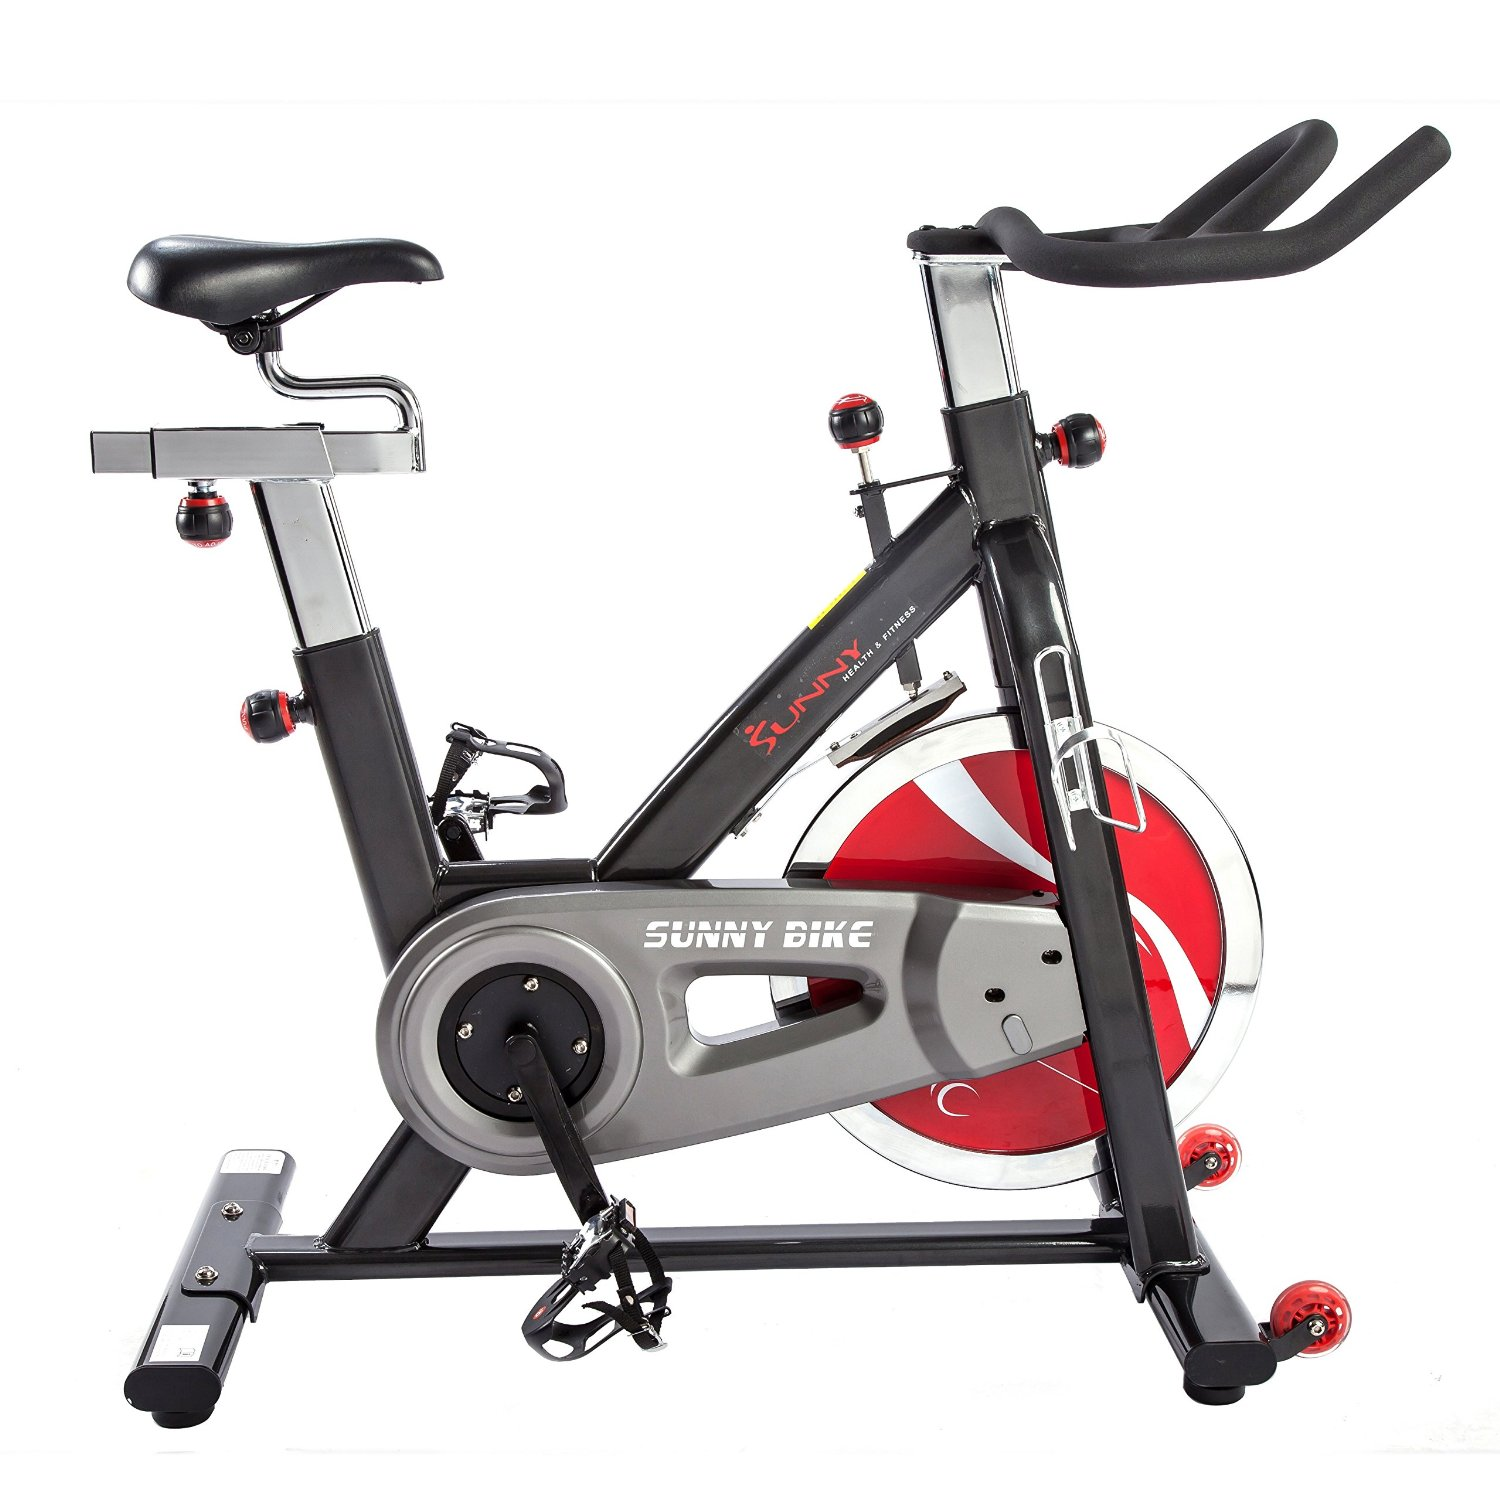gym_bike: (55, 122, 1445, 1429)
